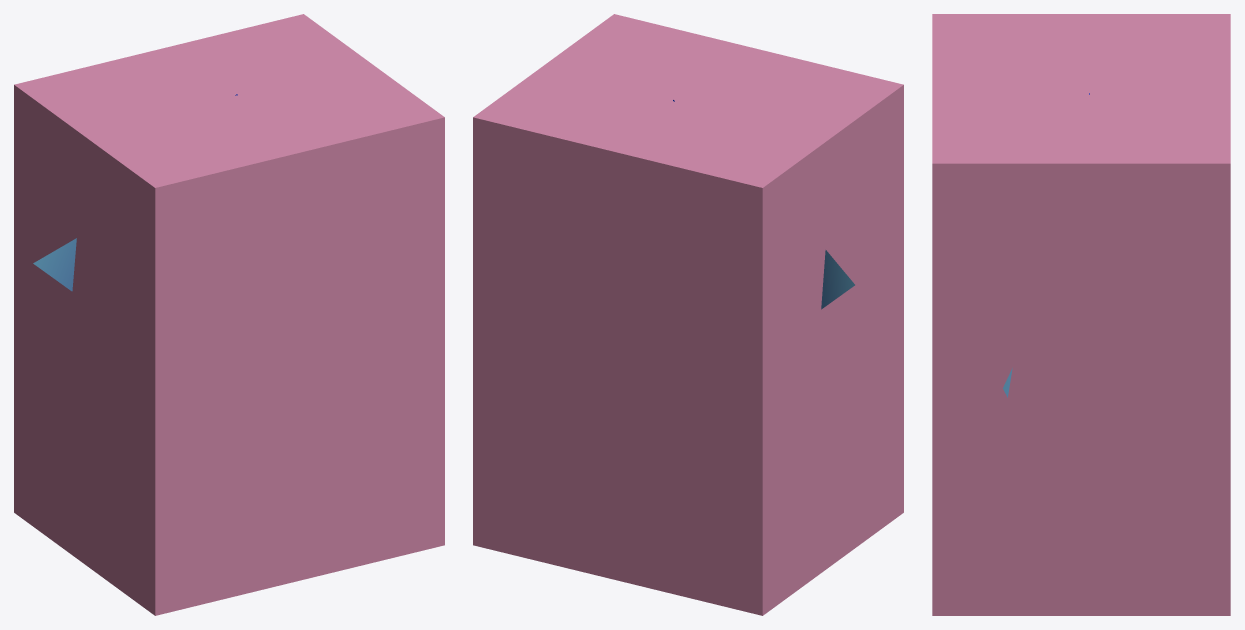
File: tree_aspen_bush_c.dae
The picture shows the model from 3 angles, left to right: view 1: azimuth 30°, elevation 25°; view 2: azimuth 150°, elevation 25°; view 3: azimuth 270°, elevation 25°; orthographic projection. The views are drawn at different scales.
Parts seen in each view (by area): view 1: Untitled, tree_oak_bush_a110; view 2: Untitled, tree_oak_bush_a110; view 3: Untitled.
Part boxes in pixels (x1=…): Untitled: x1=14, y1=14, x2=444, y2=615; tree_oak_bush_a110: x1=33, y1=94, x2=237, y2=291; Untitled: x1=473, y1=14, x2=903, y2=615; tree_oak_bush_a110: x1=673, y1=100, x2=854, y2=309; Untitled: x1=932, y1=14, x2=1230, y2=615.
Bounding box in the file's own units: 3.32 × 2.36 × 4.1.
